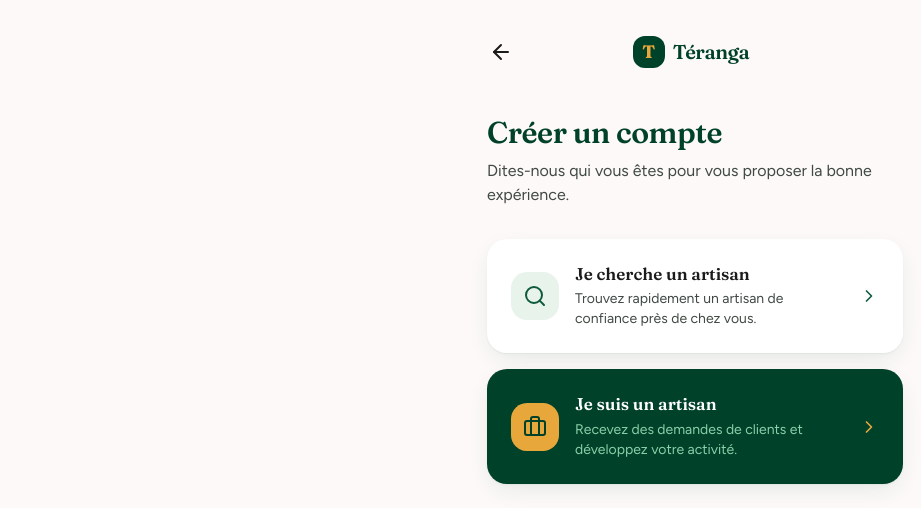
Test: RoleSelectScreen › navigates back to /connexion on "Retour"
Click the button named "Retour". click: (501, 52)
box: [479, 30, 523, 74]
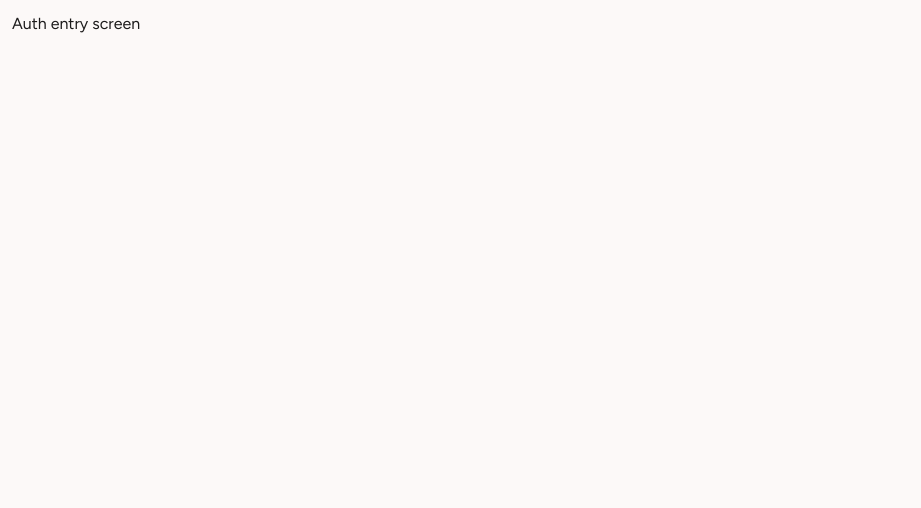
Now the text "Auth entry screen" is shown, box [12, 14, 140, 33]
